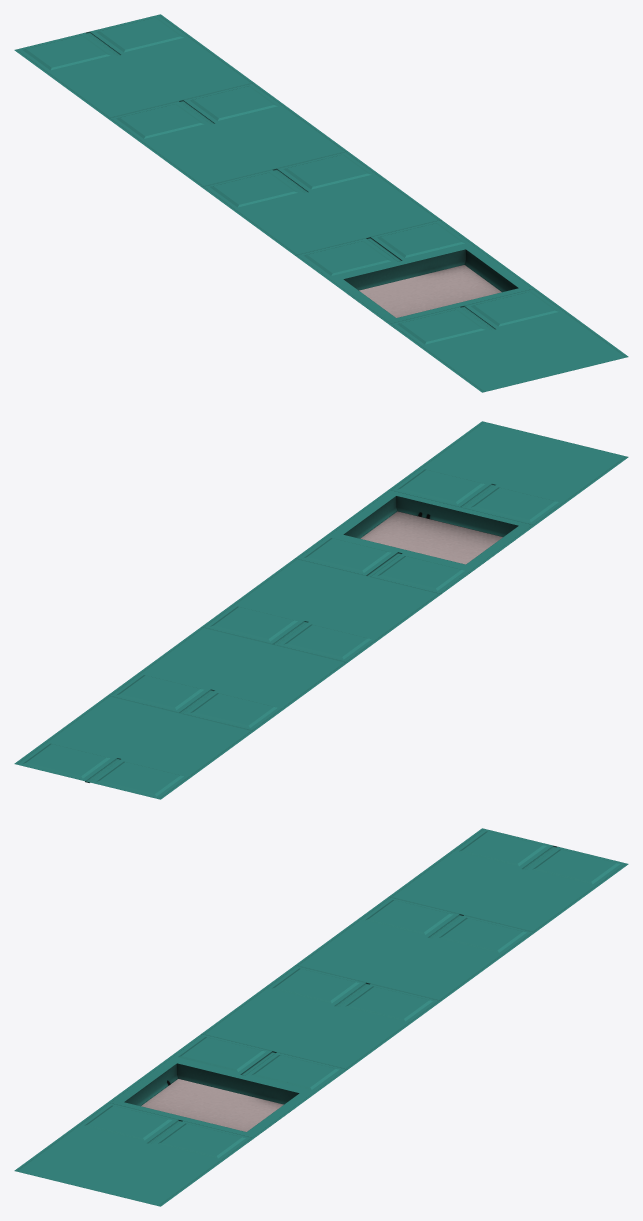
The model's file is sc_lvl1_floortile_11.FBX.
3 views of the same model, one above another, from view 1: azimuth 30°, elevation 25°; view 2: azimuth 150°, elevation 25°; view 3: azimuth 330°, elevation 25° (orthographic).
Visible parts, largest first — view 1: sc_lvl1_floortile_11; view 2: sc_lvl1_floortile_11; view 3: sc_lvl1_floortile_11.
Part boxes in pixels (x1=…): sc_lvl1_floortile_11: x1=14, y1=14, x2=628, y2=392; sc_lvl1_floortile_11: x1=14, y1=421, x2=628, y2=799; sc_lvl1_floortile_11: x1=14, y1=828, x2=628, y2=1206.
Bounding box in the file's own units: 18.1 × 1.79 × 100.
